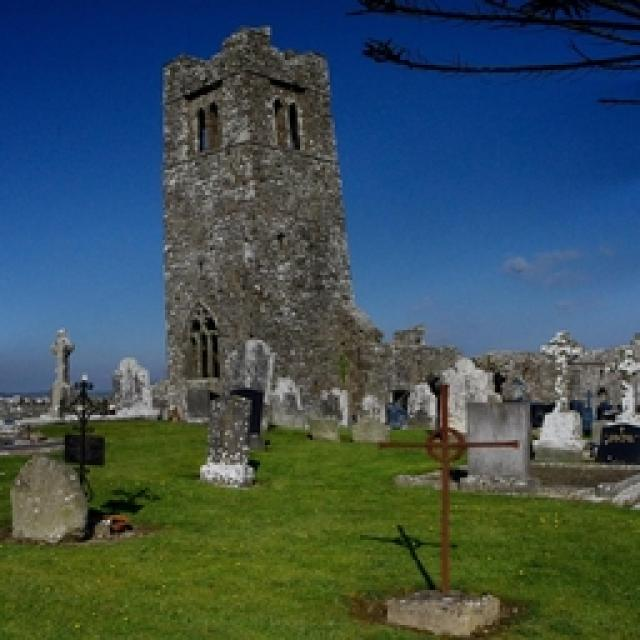Abbey: (132, 45, 390, 394)
